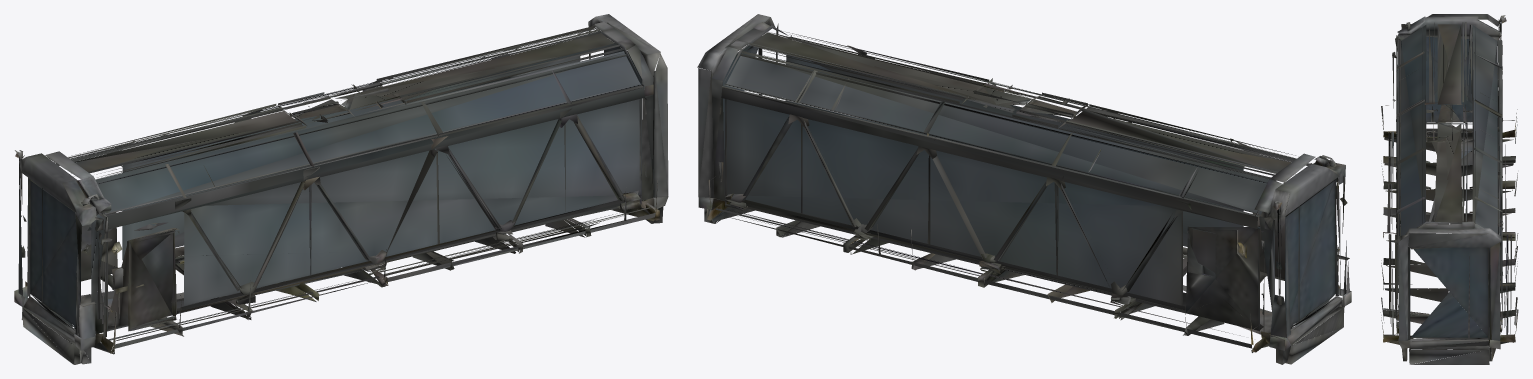
File: skybridge-far.glb
The picture shows the model from 3 angles, left to right: view 1: azimuth 30°, elevation 25°; view 2: azimuth 150°, elevation 25°; view 3: azimuth 270°, elevation 25°; orthographic projection. The views are drawn at different scales.
Parts seen in each view (by area): view 1: skybridge; view 2: skybridge; view 3: skybridge.
Boxes of the visible parts, <box> form: skybridge: <box>14,14,668,364</box>; skybridge: <box>697,14,1351,364</box>; skybridge: <box>1380,14,1518,364</box>.
Bounding box in the file's own units: 14 × 3.97 × 3.69.
1 material, 1 textured.
